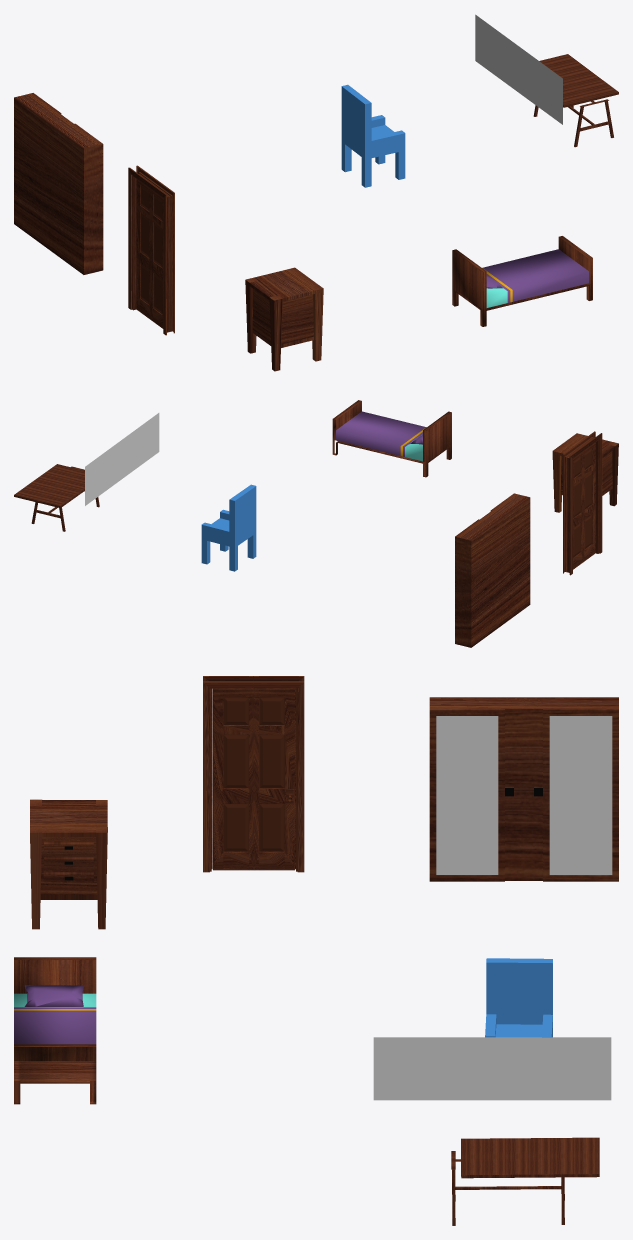
Rendered from duy19.glb.
3 renders of one model, top to bottom at view 1: azimuth 30°, elevation 25°; view 2: azimuth 150°, elevation 25°; view 3: azimuth 270°, elevation 25°, orthographic. The views are drawn at different scales.
Parts seen in each view (by area): view 1: closet, basic_door, bed, small chest, Plane.001, chair, mat ban; view 2: closet, basic_door, bed, Plane.001, chair, mat ban, small chest; view 3: closet, basic_door, Plane.001, bed, small chest, mat ban, chair.
Boxes of the visible parts, box(x1,y1,x2,y2) form: closet: box(14, 93, 103, 274); basic_door: box(128, 165, 174, 335); bed: box(452, 236, 592, 326); small chest: box(245, 267, 323, 371); Plane.001: box(475, 14, 562, 124); chair: box(341, 84, 405, 187); mat ban: box(533, 54, 618, 147); closet: box(455, 493, 530, 647); basic_door: box(563, 431, 602, 575); bed: box(332, 400, 451, 477); Plane.001: box(85, 413, 159, 505); chair: box(201, 484, 256, 571); mat ban: box(14, 464, 99, 531); small chest: box(552, 433, 618, 512); closet: box(429, 697, 618, 881); basic_door: box(203, 676, 304, 872); Plane.001: box(373, 1037, 611, 1100); bed: box(14, 957, 96, 1104); small chest: box(30, 799, 107, 929); mat ban: box(451, 1137, 599, 1225); chair: box(485, 958, 552, 1037).
Size of the model in its own units: 32.35 by 8.08 by 22.79.
Materials: 12 (5 with a texture image).
